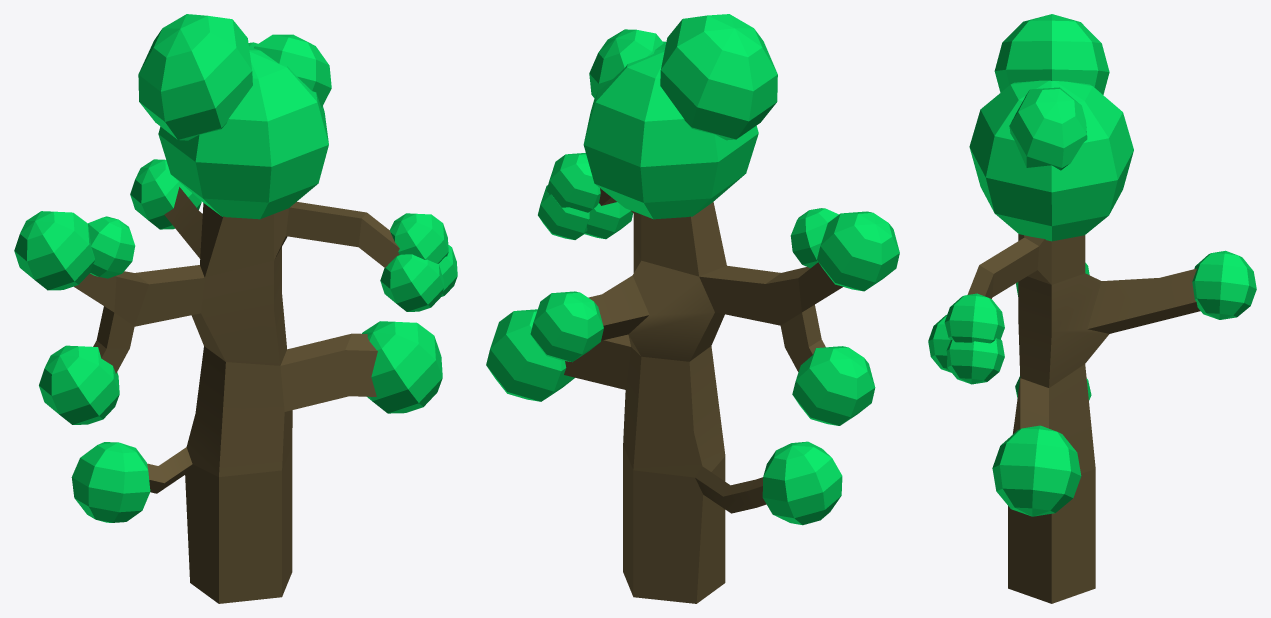
The model's file is tree_2.fbx.
3 renders of one model, left to right at view 1: azimuth 30°, elevation 25°; view 2: azimuth 150°, elevation 25°; view 3: azimuth 270°, elevation 25°, orthographic. The views are drawn at different scales.
Parts seen in each view (by area): view 1: tree_base2, leaf_5, leaf_13, leaf_8, leaf_16, leaf_6, leaf_7, leaf_10, leaf_17, leaf_14, leaf_12, leaf_11; view 2: tree_base2, leaf_5, leaf_13, leaf_16, leaf_6, leaf_7, leaf_8, leaf_17, leaf_14, leaf_11, leaf_12, leaf_9 (+1 smaller); view 3: tree_base2, leaf_5, leaf_13, leaf_8, leaf_14, leaf_17, leaf_11, leaf_9, leaf_10.
Boxes of the visible parts, x1,y1,x2,y2 form: tree_base2: [74, 187, 399, 603]; leaf_5: [158, 42, 328, 219]; leaf_13: [138, 14, 252, 140]; leaf_8: [362, 321, 442, 413]; leaf_16: [71, 442, 150, 522]; leaf_6: [14, 211, 95, 290]; leaf_7: [39, 345, 119, 424]; leaf_10: [380, 254, 444, 311]; leaf_17: [130, 159, 201, 229]; leaf_14: [254, 34, 331, 107]; leaf_12: [88, 216, 135, 278]; leaf_11: [390, 213, 448, 263]; tree_base2: [564, 188, 843, 603]; leaf_5: [583, 41, 758, 219]; leaf_13: [660, 14, 777, 140]; leaf_16: [762, 441, 842, 525]; leaf_6: [817, 211, 899, 291]; leaf_7: [792, 346, 875, 425]; leaf_8: [486, 309, 574, 401]; leaf_17: [530, 291, 603, 362]; leaf_14: [589, 29, 663, 98]; leaf_11: [546, 153, 600, 212]; leaf_12: [790, 208, 838, 268]; leaf_9: [538, 185, 589, 239]; tree_base2: [967, 234, 1200, 603]; leaf_5: [969, 80, 1133, 241]; leaf_13: [994, 14, 1109, 94]; leaf_8: [992, 425, 1081, 516]; leaf_14: [1009, 87, 1087, 170]; leaf_17: [1192, 250, 1256, 319]; leaf_11: [944, 293, 1004, 343]; leaf_9: [946, 338, 1004, 384]; leaf_10: [928, 315, 951, 372].
Bounding box in the file's own units: 9.24 × 12.41 × 6.79.
